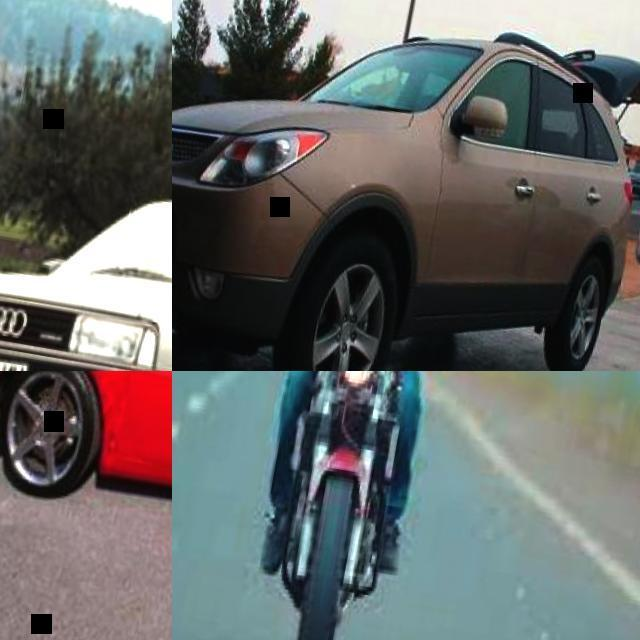car: (168, 27, 632, 357), (1, 182, 174, 497)
